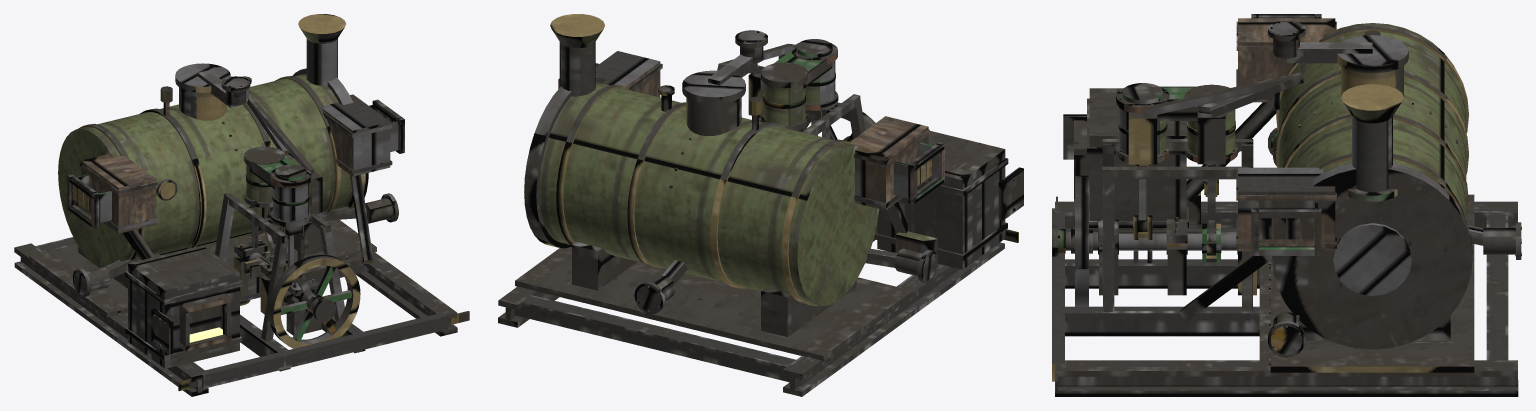
File: feSteamEngine_HD.fbx
The picture shows the model from 3 angles, left to right: view 1: azimuth 30°, elevation 25°; view 2: azimuth 150°, elevation 25°; view 3: azimuth 270°, elevation 25°; orthographic projection. The views are drawn at different scales.
Visible parts, largest first — view 1: feSteamEngine_Base, FeSpin_SteamFlywheel, FeCrosshead_2; view 2: feSteamEngine_Base, FeCrosshead_2; view 3: feSteamEngine_Base, FeSpin_SteamFlywheel, FeCrosshead_2.
Boxes of the visible parts, x1=… form: feSteamEngine_Base: x1=14, y1=14, x2=469, y2=396; FeSpin_SteamFlywheel: x1=237, y1=251, x2=360, y2=348; FeCrosshead_2: x1=275, y1=164, x2=306, y2=235; feSteamEngine_Base: x1=498, y1=14, x2=1023, y2=396; FeCrosshead_2: x1=796, y1=39, x2=832, y2=120; feSteamEngine_Base: x1=1052, y1=14, x2=1521, y2=396; FeSpin_SteamFlywheel: x1=1052, y1=175, x2=1237, y2=306; FeCrosshead_2: x1=1122, y1=83, x2=1163, y2=166.
Size of the model in its own units: 3.01 by 2.06 by 3.01.
Materials: 2 (1 with a texture image).
